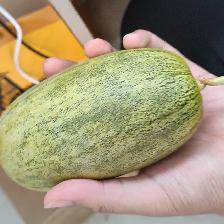gua: (13, 63, 179, 171)
